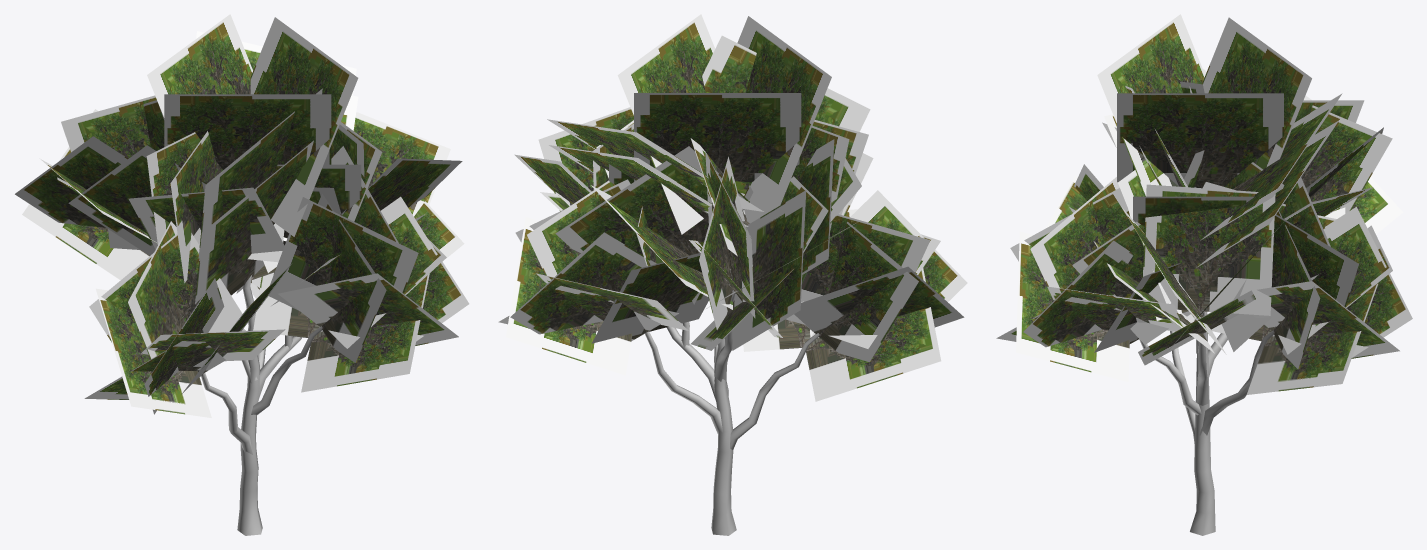
Rendered from tree6.FBX.
3 views of the same model, side by side, from view 1: azimuth 30°, elevation 25°; view 2: azimuth 150°, elevation 25°; view 3: azimuth 270°, elevation 25° (orthographic).
Visible parts, largest first — view 1: tree8; view 2: tree8; view 3: tree8.
Part boxes in pixels (x1,y1,x2,y2): tree8: (15, 14, 469, 535); tree8: (498, 14, 967, 535); tree8: (996, 14, 1412, 535).
Bounding box in the file's own units: 111 × 125 × 101.
